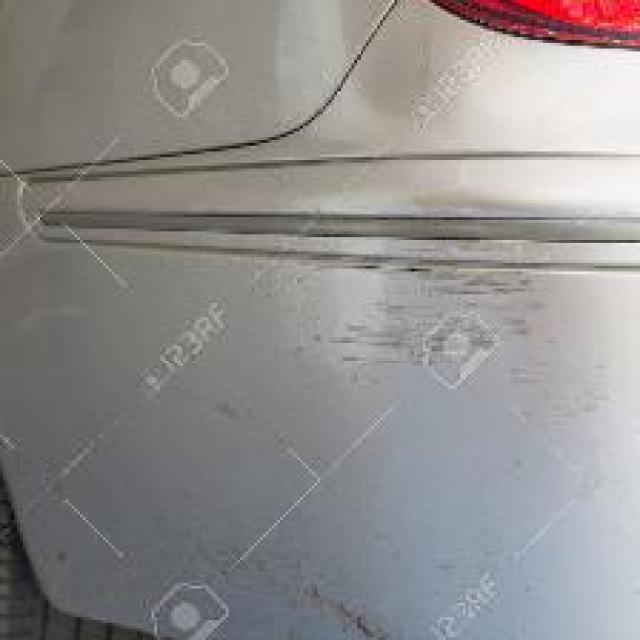bumper_dent_minor: (417, 309, 497, 386), (306, 217, 471, 240)
